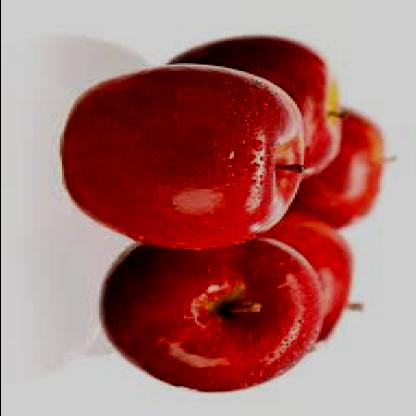apple: (57, 70, 305, 245), (105, 235, 318, 392), (168, 44, 340, 182), (236, 216, 366, 354), (272, 110, 392, 226)
